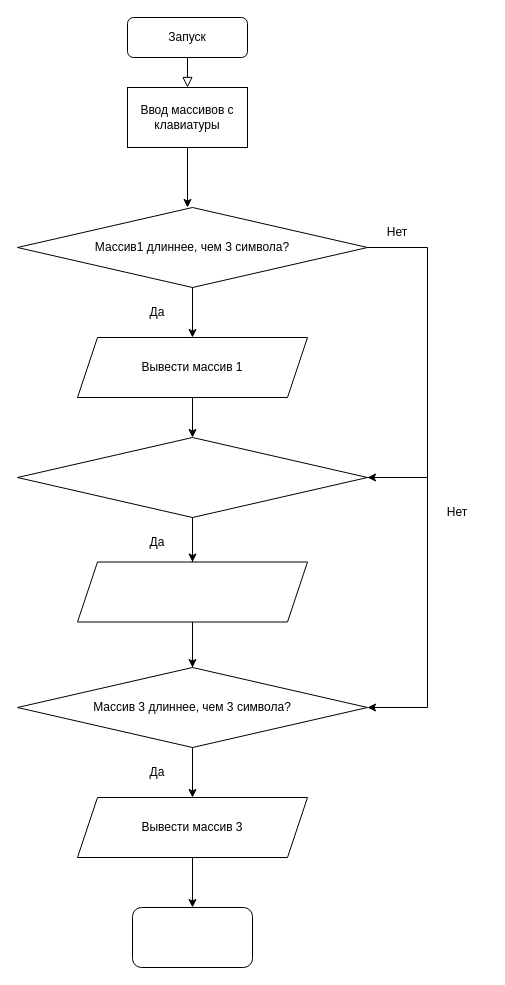
Some shapes in this 505 by 985 pixel diagram are drawn without their labels. The shapes that lost their labels are listed below. From the top down, each one's centre as x and y in pixels, then its label:
pixel 192 477: Массив 2 длиннее, чем 3 символа?
pixel 192 591: Вывести массив 2
pixel 192 937: Конец
